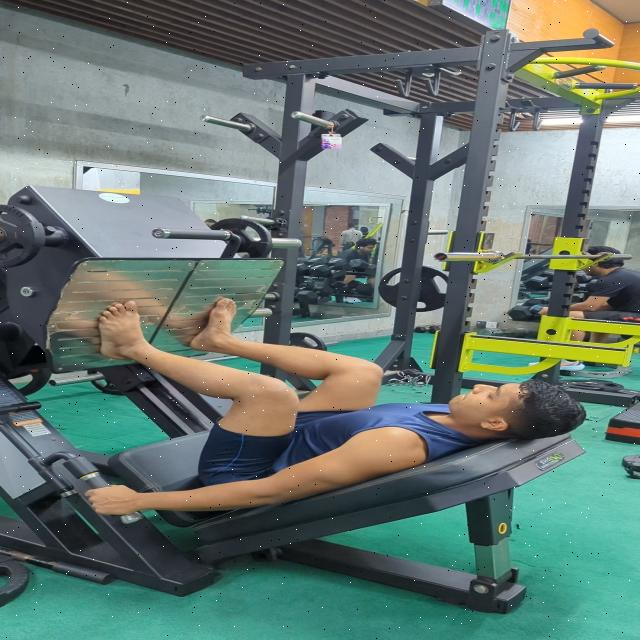Normal_LegPress: (53, 292, 590, 523)
